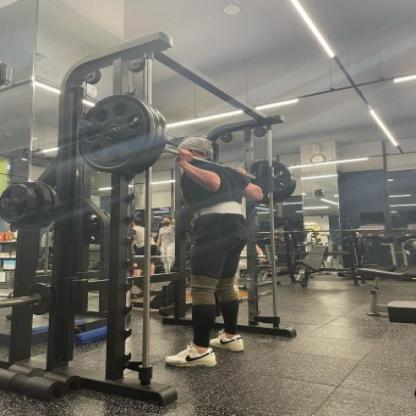smith machine: (6, 31, 298, 407)
